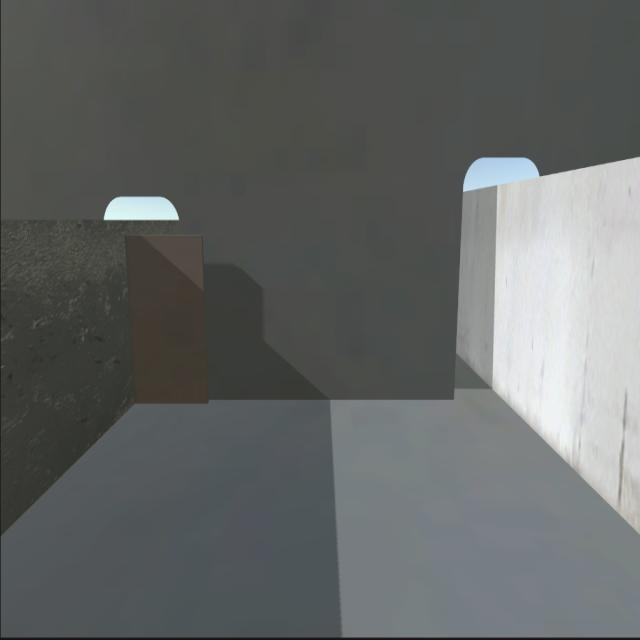fillet_yong_jeop_jang: (135, 390, 455, 405)
longi_yong_jeop_jang: (123, 236, 146, 402)
plate_CP01: (124, 232, 206, 400)
